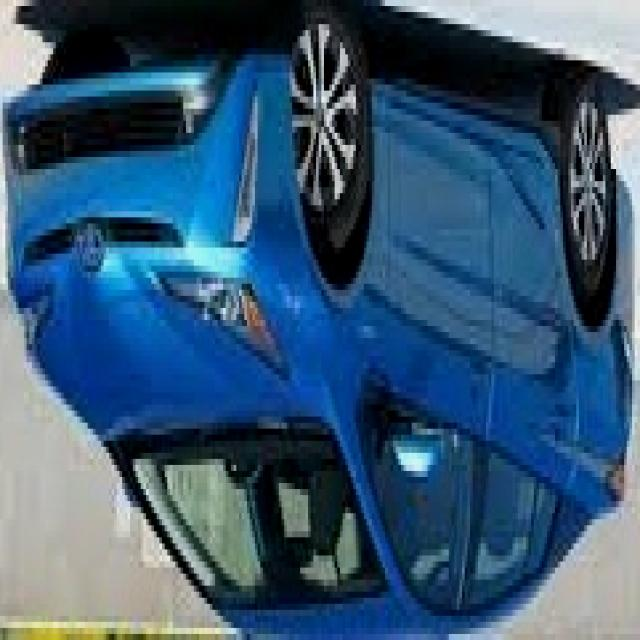blue: (2, 12, 634, 640)
